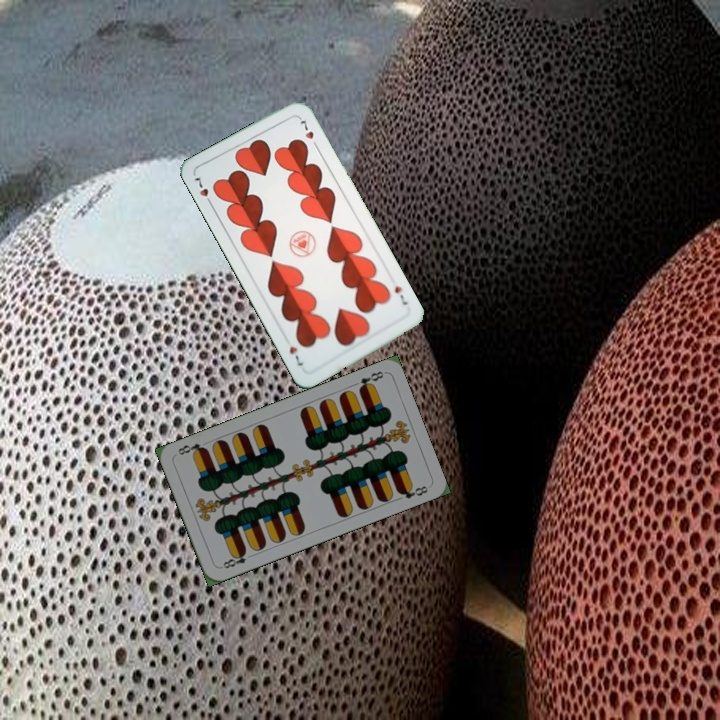E8: (216, 547, 256, 571), (355, 367, 386, 394)
H7: (190, 172, 216, 209), (390, 282, 410, 307)
